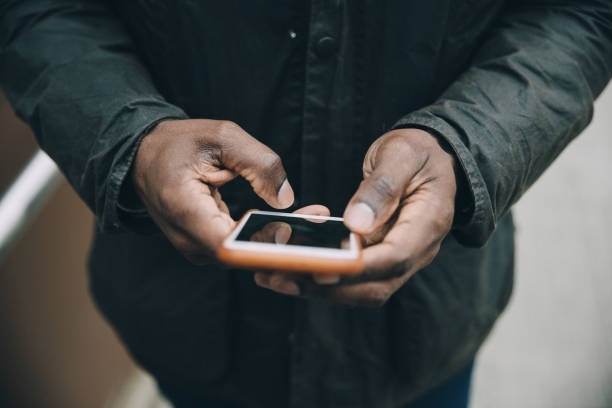phone: (219, 196, 364, 278)
